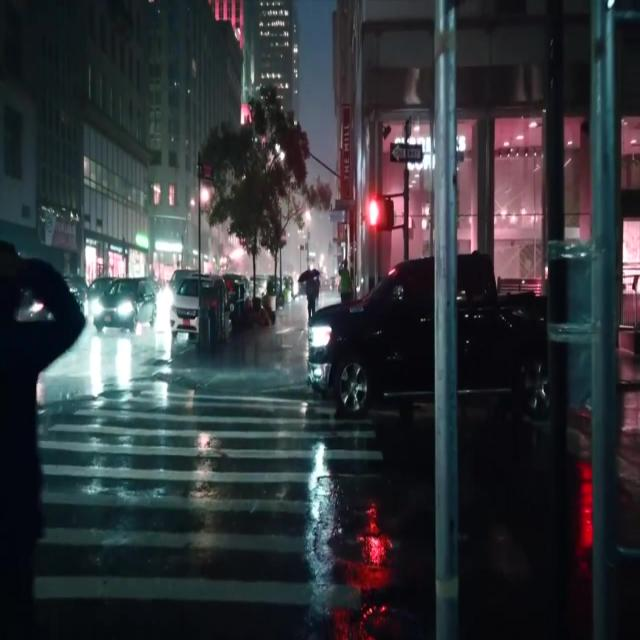Car: (309, 262, 434, 422), (92, 279, 155, 337), (170, 275, 195, 336)
